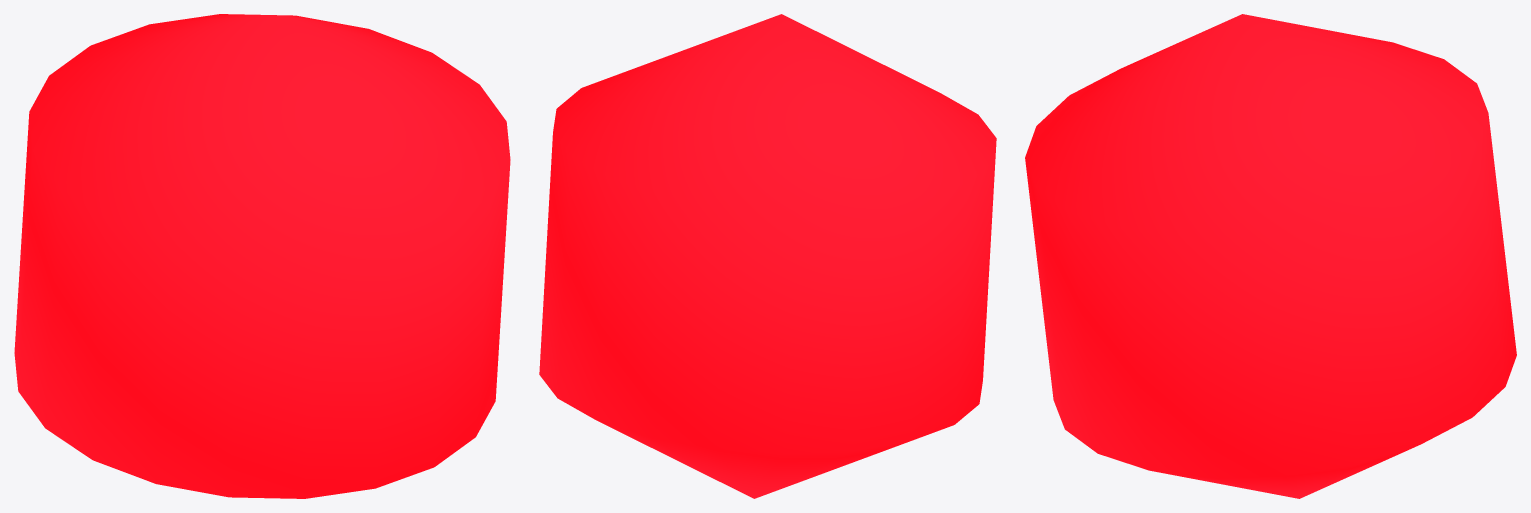
Rendered from FireAttack.fbx.
3 renders of one model, left to right at view 1: azimuth 30°, elevation 25°; view 2: azimuth 150°, elevation 25°; view 3: azimuth 270°, elevation 25°, orthographic. The views are drawn at different scales.
Parts seen in each view (by area): view 1: Fire_Casteer.002; view 2: Fire_Casteer.002; view 3: Fire_Casteer.002.
Boxes of the visible parts, x1=… form: Fire_Casteer.002: x1=14, y1=14, x2=510, y2=498; Fire_Casteer.002: x1=539, y1=14, x2=996, y2=498; Fire_Casteer.002: x1=1025, y1=14, x2=1516, y2=498.
Bounding box in the file's own units: 25.16 × 28.88 × 26.55.
